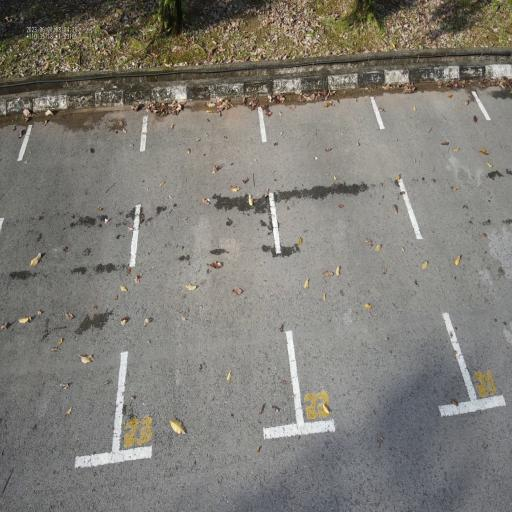Empty: (252, 87, 482, 444), (108, 81, 309, 470)
